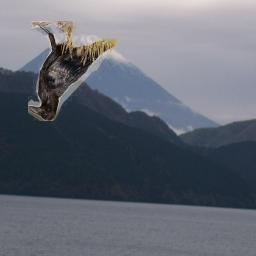Crow: (28, 21, 117, 121)
